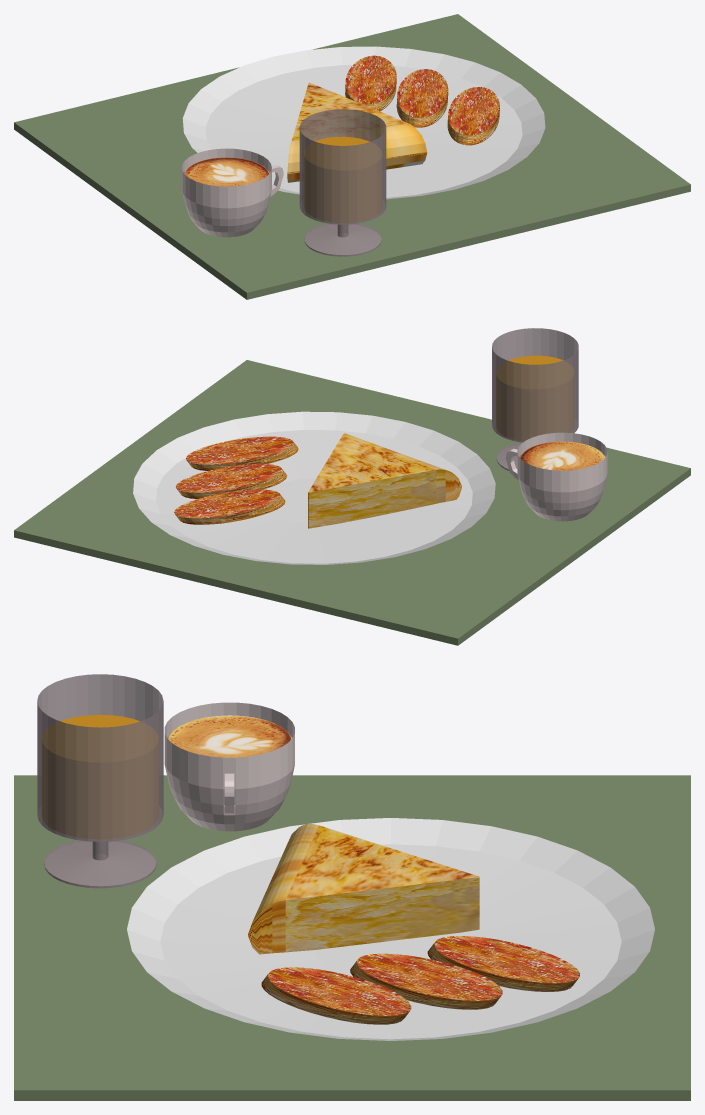
The model's file is menu3Espana.glb.
3 views of the same model, one above another, from view 1: azimuth 30°, elevation 25°; view 2: azimuth 150°, elevation 25°; view 3: azimuth 270°, elevation 25° (orthographic). The views are drawn at different scales.
Parts seen in each view (by area): view 1: Cube, Cylinder, Cylinder.010, Cylinder.011, Cube.001, Circle, Cylinder.001, Cylinder.002, Cylinder.003, Cylinder.012; view 2: Cube, Cylinder, Cylinder.010, Cube.001, Cylinder.011, Circle, Cylinder.003, Cylinder.001, Cylinder.002, Cylinder.012; view 3: Cube, Cylinder, Cylinder.010, Cube.001, Cylinder.011, Circle, Cylinder.001, Cylinder.002, Cylinder.003, Cylinder.012.
Boxes of the visible parts, x1,y1,x2,y2 form: Cube: (14,14,690,299); Cylinder: (182,46,545,199); Cylinder.010: (299,109,386,256); Cylinder.011: (304,136,381,222); Cube.001: (287,82,427,182); Circle: (181,148,283,237); Cylinder.001: (447,87,499,145); Cylinder.002: (396,69,448,127); Cylinder.003: (345,55,396,111); Cylinder.012: (184,157,269,186); Cube: (14,360,690,645); Cylinder: (133,411,495,564); Cylinder.010: (492,328,578,470); Cube.001: (308,433,461,528); Cylinder.011: (496,355,573,440); Circle: (506,432,607,521); Cylinder.003: (174,489,285,524); Cylinder.001: (186,436,298,470); Cylinder.002: (176,464,286,498); Cylinder.012: (519,441,605,470); Cube: (14,775,690,1100); Cylinder: (127,818,654,1040); Cylinder.010: (37,674,163,888); Cube.001: (248,823,479,954); Cylinder.011: (42,714,158,838); Circle: (164,702,294,831); Cylinder.001: (261,967,411,1024); Cylinder.002: (350,953,502,1009); Cylinder.003: (427,936,579,991); Cylinder.012: (167,715,292,757).
Size of the model in its own units: 22.67 by 5.85 by 20.59.
11 materials, 6 textured.
